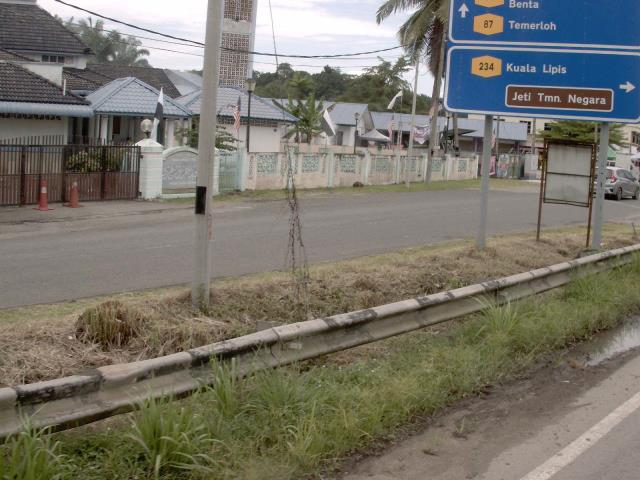traffic_sign: (436, 2, 640, 131)
